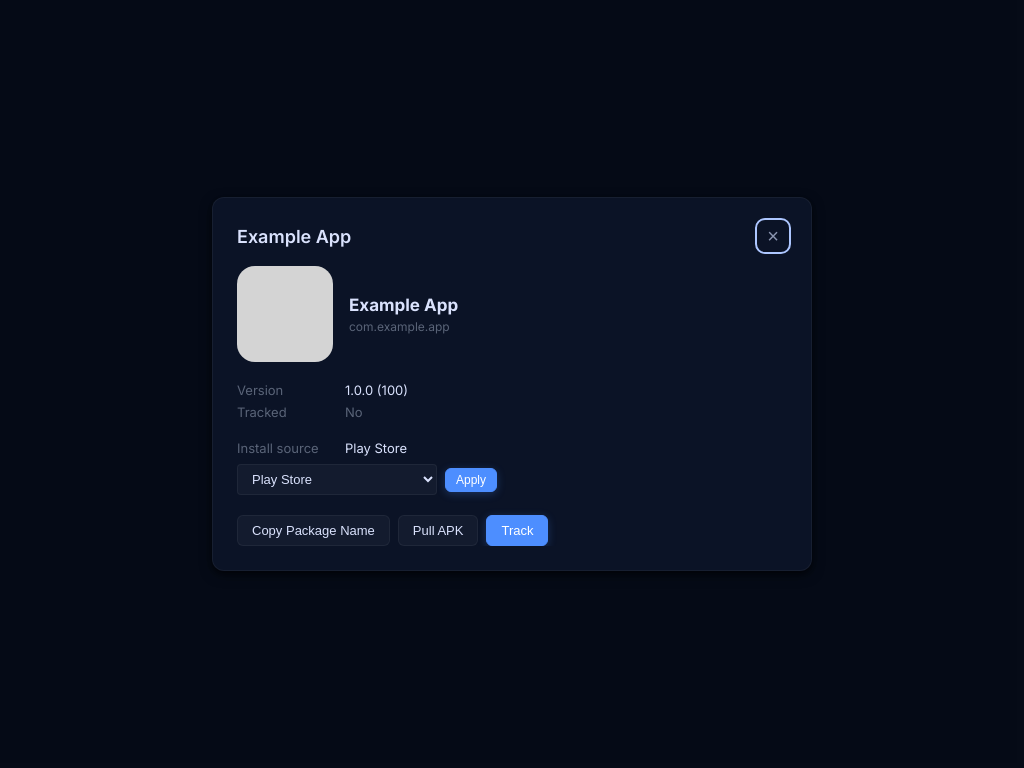
AppDetailModal — install source › applies a chosen preset installer and updates the shown value
Expected: the text with test id "app-detail-install-source-current" reads "Play Store", top-left (345, 440), bottom-right (407, 456)
// Choose F-Droid and apply.
Select "F-Droid" in the dropdown with test id "app-detail-install-source-select" at [337, 480], box top-left (237, 464), bottom-right (437, 495)
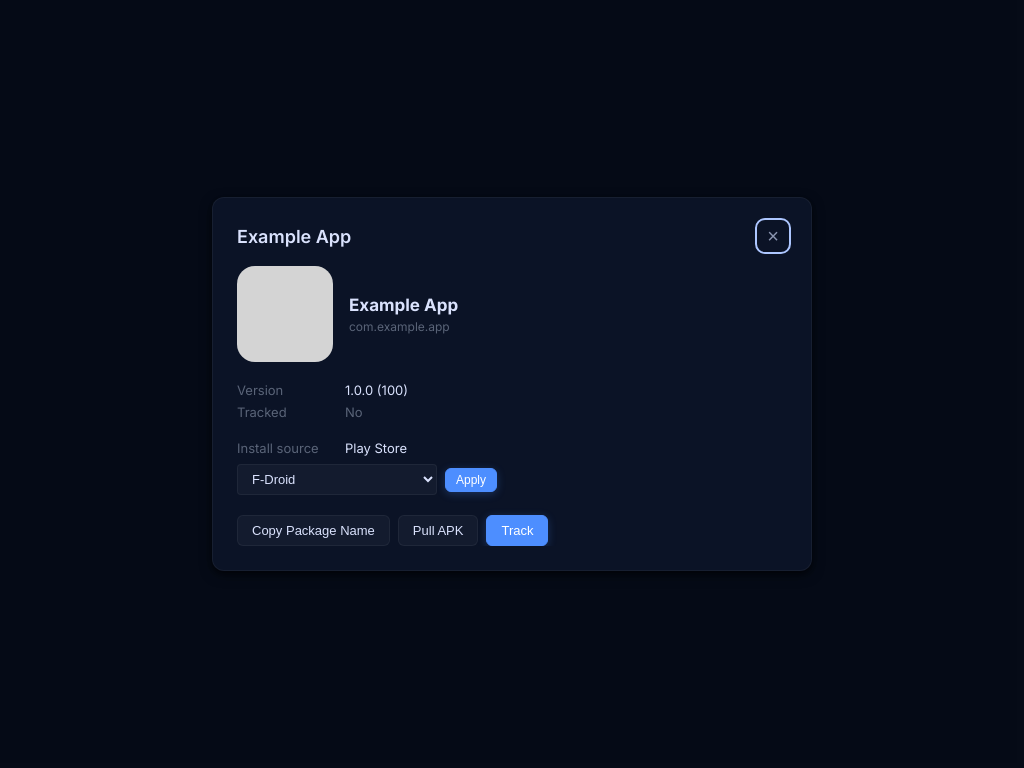
Click the button with test id "app-detail-install-source-apply" at [471, 480], box top-left (445, 468), bottom-right (497, 492)
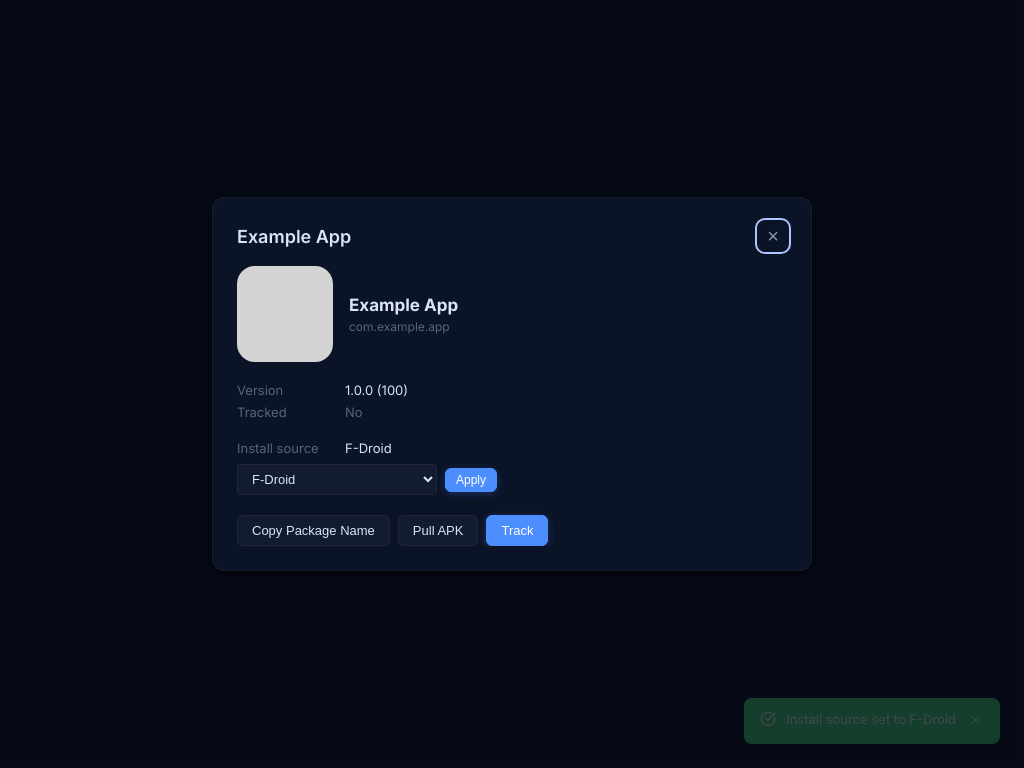
Result: the text with test id "app-detail-install-source-current" reads "F-Droid" at top-left (345, 440), bottom-right (392, 456)
